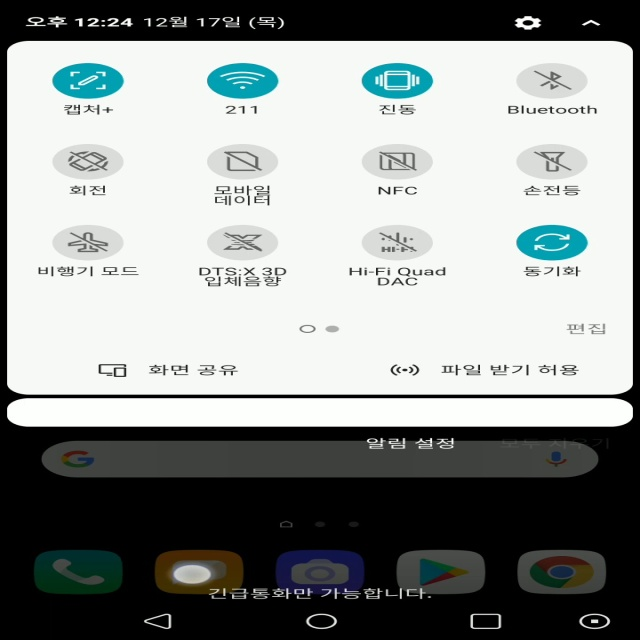Cursor: (172, 563, 216, 585)
